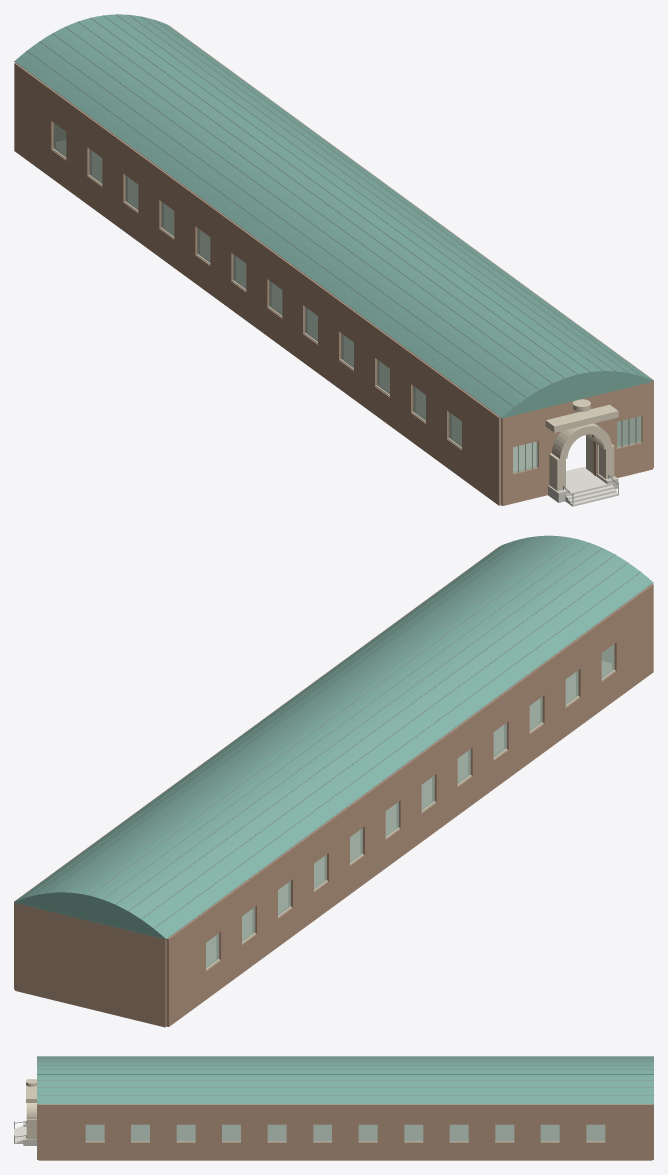
The model's file is Aquarium_Arched_Entrance_Study.glb.
3 renders of one model, top to bottom at view 1: azimuth 30°, elevation 25°; view 2: azimuth 150°, elevation 25°; view 3: azimuth 270°, elevation 25°, orthographic. The views are drawn at different scales.
Visible parts, largest first — view 1: Roof/PatinatedCopperPanels__copper, Facade/LongBrickWallAboveWindows__brick, Facade/LongBrickWallBelowWindows__brick, Facade/BrickWindowJambs__brick, Roof/StandingSeams__darkIron, Facade/SideWindows__greenGlass, Facade/FrontBrickAboveWindows__brick, Facade/FrontBrickBelowWindows__brick, Facade/FrontBrickWindowJambs__brick, Facade/FrontWindows__greenGlass, Portal/EngravedSignStone__limestone, Portal/StoneColumns__limestone (+2 smaller); view 2: Roof/PatinatedCopperPanels__copper, Facade/LongBrickWallAboveWindows__brick, Facade/LongBrickWallBelowWindows__brick, Facade/RearWall__brick, Facade/BrickWindowJambs__brick, Roof/StandingSeams__darkIron, Facade/SideWindows__greenGlass; view 3: Roof/PatinatedCopperPanels__copper, Facade/LongBrickWallAboveWindows__brick, Facade/LongBrickWallBelowWindows__brick, Facade/BrickWindowJambs__brick, Roof/StandingSeams__darkIron, Facade/SideWindows__greenGlass, Facade/WindowSills__limestone, Portal/StoneColumns__limestone, Entrance/OutsideSteps__marble, Portal/EngravedSignStone__limestone.
Part boxes in pixels (x1,y1,x2,y2): Roof/PatinatedCopperPanels__copper: [15, 14, 653, 418]; Facade/LongBrickWallAboveWindows__brick: [14, 25, 653, 448]; Facade/LongBrickWallBelowWindows__brick: [14, 123, 653, 505]; Facade/BrickWindowJambs__brick: [14, 94, 653, 477]; Roof/StandingSeams__darkIron: [14, 14, 641, 418]; Facade/SideWindows__greenGlass: [53, 122, 461, 447]; Facade/FrontBrickAboveWindows__brick: [501, 381, 652, 449]; Facade/FrontBrickBelowWindows__brick: [501, 440, 652, 505]; Facade/FrontBrickWindowJambs__brick: [501, 413, 652, 476]; Facade/FrontWindows__greenGlass: [513, 416, 641, 473]; Portal/EngravedSignStone__limestone: [545, 404, 618, 432]; Portal/StoneColumns__limestone: [549, 444, 614, 490]; Roof/PatinatedCopperPanels__copper: [14, 535, 652, 939]; Facade/LongBrickWallAboveWindows__brick: [14, 547, 653, 969]; Facade/LongBrickWallBelowWindows__brick: [14, 644, 653, 1026]; Facade/RearWall__brick: [15, 903, 166, 1027]; Facade/BrickWindowJambs__brick: [14, 615, 653, 998]; Roof/StandingSeams__darkIron: [26, 535, 653, 939]; Facade/SideWindows__greenGlass: [206, 644, 614, 968]; Roof/PatinatedCopperPanels__copper: [37, 1056, 653, 1104]; Facade/LongBrickWallAboveWindows__brick: [38, 1104, 652, 1124]; Facade/LongBrickWallBelowWindows__brick: [38, 1142, 652, 1160]; Facade/BrickWindowJambs__brick: [38, 1124, 652, 1142]; Roof/StandingSeams__darkIron: [37, 1057, 653, 1095]; Facade/SideWindows__greenGlass: [85, 1124, 605, 1141]; Facade/WindowSills__limestone: [85, 1141, 605, 1142]; Portal/StoneColumns__limestone: [26, 1119, 36, 1139]; Entrance/OutsideSteps__marble: [14, 1125, 25, 1143]; Portal/EngravedSignStone__limestone: [26, 1079, 36, 1102].
Size of the model in its own units: 14.02 by 9.82 by 79.25.
